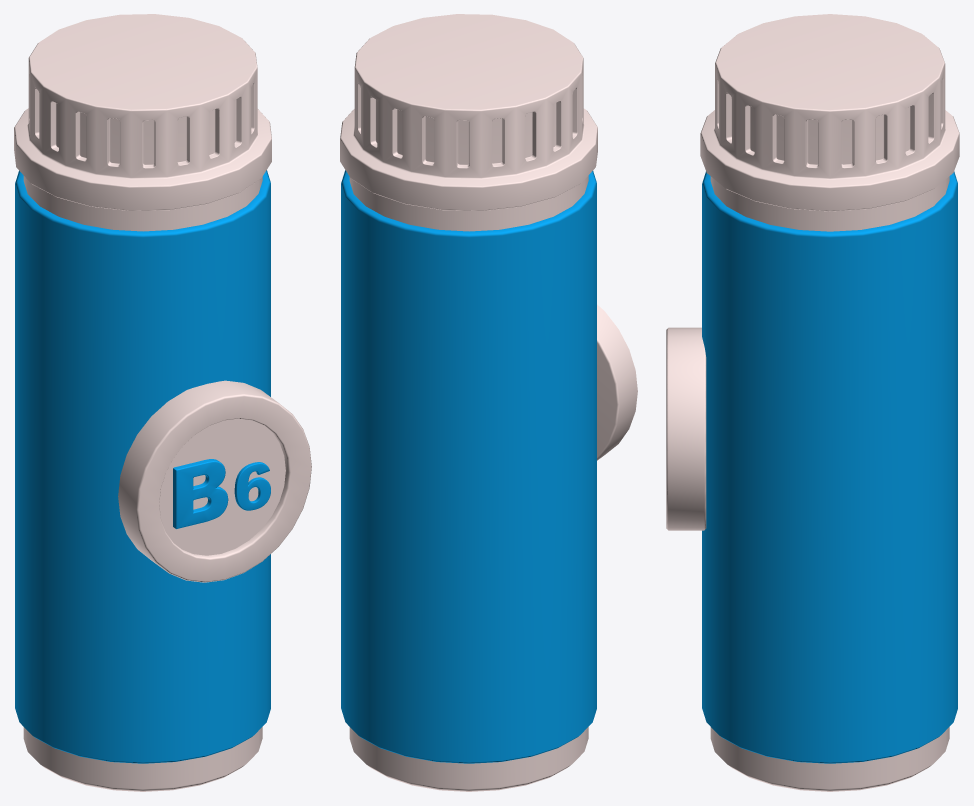
Rendered from Store_15_Bottle_of_Vitamin_B6_1.glb.
3 views of the same model, side by side, from view 1: azimuth 30°, elevation 25°; view 2: azimuth 150°, elevation 25°; view 3: azimuth 270°, elevation 25° (orthographic).
Visible parts, largest first — view 1: Store_15_Bottle_of_Vitamin_B6_1; view 2: Store_15_Bottle_of_Vitamin_B6_1; view 3: Store_15_Bottle_of_Vitamin_B6_1.
Part boxes in pixels (left/top/right/bottom): Store_15_Bottle_of_Vitamin_B6_1: left=14, top=14, right=311, bottom=791; Store_15_Bottle_of_Vitamin_B6_1: left=340, top=14, right=637, bottom=791; Store_15_Bottle_of_Vitamin_B6_1: left=666, top=14, right=959, bottom=791.
Size of the model in its own units: 1.07 by 3.11 by 1.21.
Materials: 1 (1 with a texture image).
